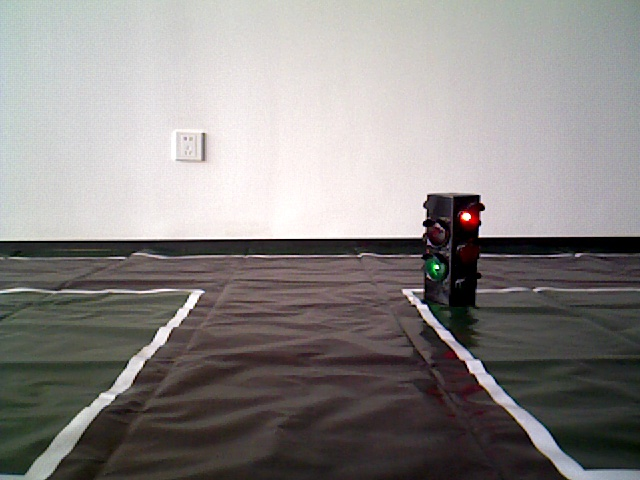red: (424, 190, 477, 301)
